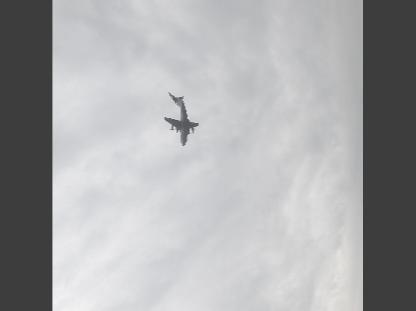A400M: (164, 90, 198, 146)
